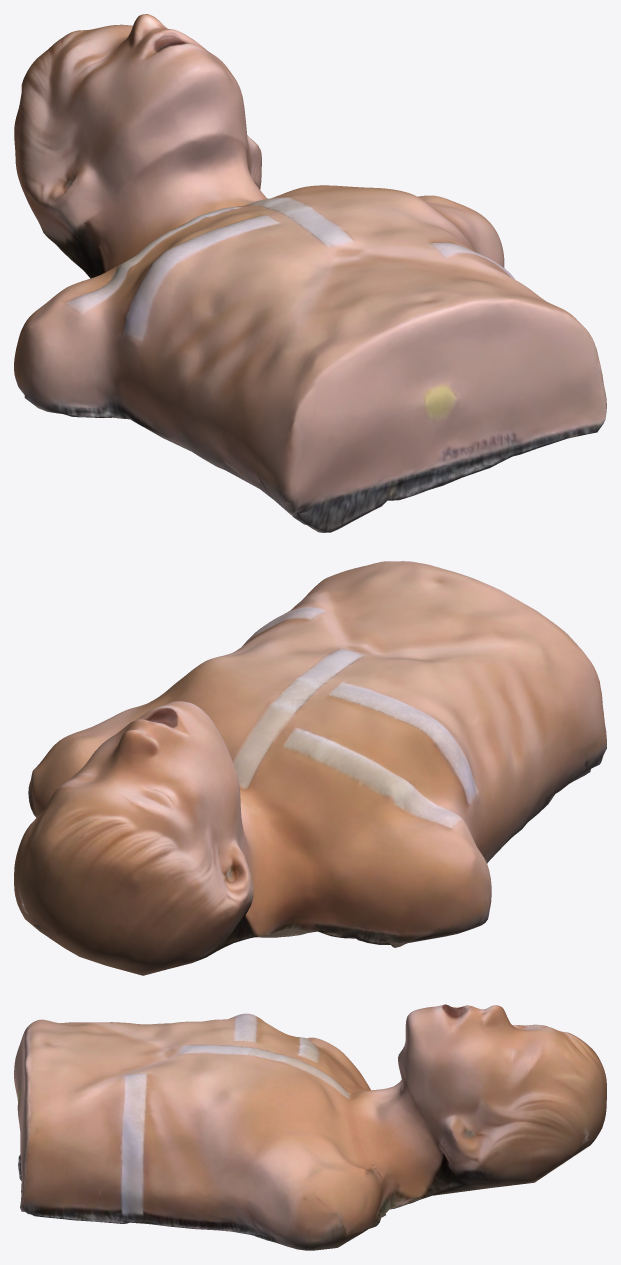
Rendered from mannequin.glb.
3 views of the same model, one above another, from view 1: azimuth 30°, elevation 25°; view 2: azimuth 150°, elevation 25°; view 3: azimuth 270°, elevation 25° (orthographic). The views are drawn at different scales.
Visible parts, largest first — view 1: E3A720C0_17A2_4863_AAAA_A710D22D5C4F; view 2: E3A720C0_17A2_4863_AAAA_A710D22D5C4F; view 3: E3A720C0_17A2_4863_AAAA_A710D22D5C4F.
Boxes of the visible parts, bbox=[...] form: E3A720C0_17A2_4863_AAAA_A710D22D5C4F: bbox=[14, 14, 606, 532]; E3A720C0_17A2_4863_AAAA_A710D22D5C4F: bbox=[14, 561, 606, 975]; E3A720C0_17A2_4863_AAAA_A710D22D5C4F: bbox=[14, 1004, 606, 1250].
Bounding box in the file's own units: 0.5457 × 0.2807 × 0.8082.
Materials: 1 (1 with a texture image).
